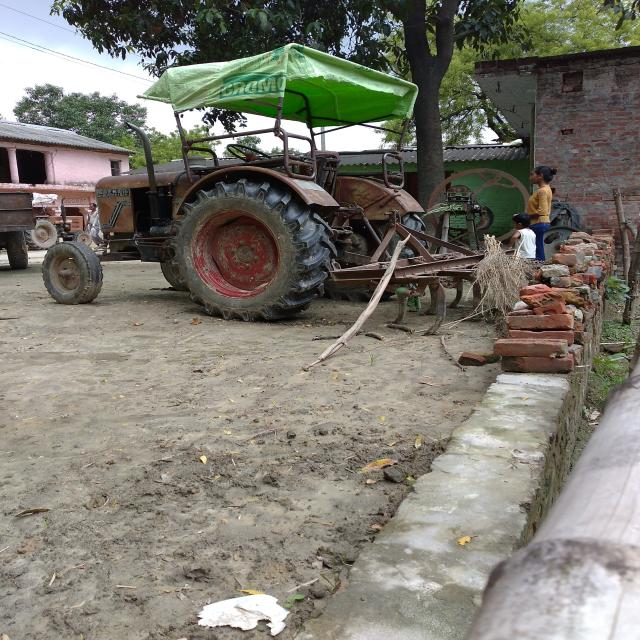Tractor: (60, 152, 433, 300)
